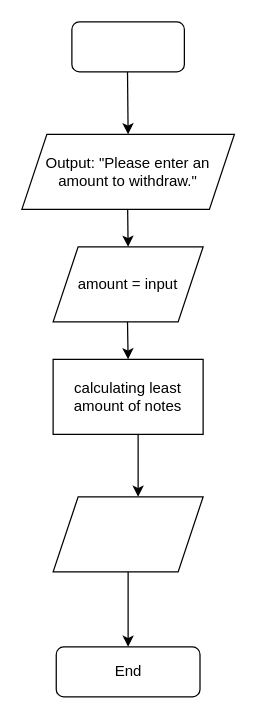
Image size: 256x719. Some labels were removed from this diagram. The shapes that lost their labels are listed below. From the top down, each one's box as (x1, y1, x2, y2) in pixels, then its label:
(71, 21, 184, 72): Start
(52, 496, 203, 572): output notes
